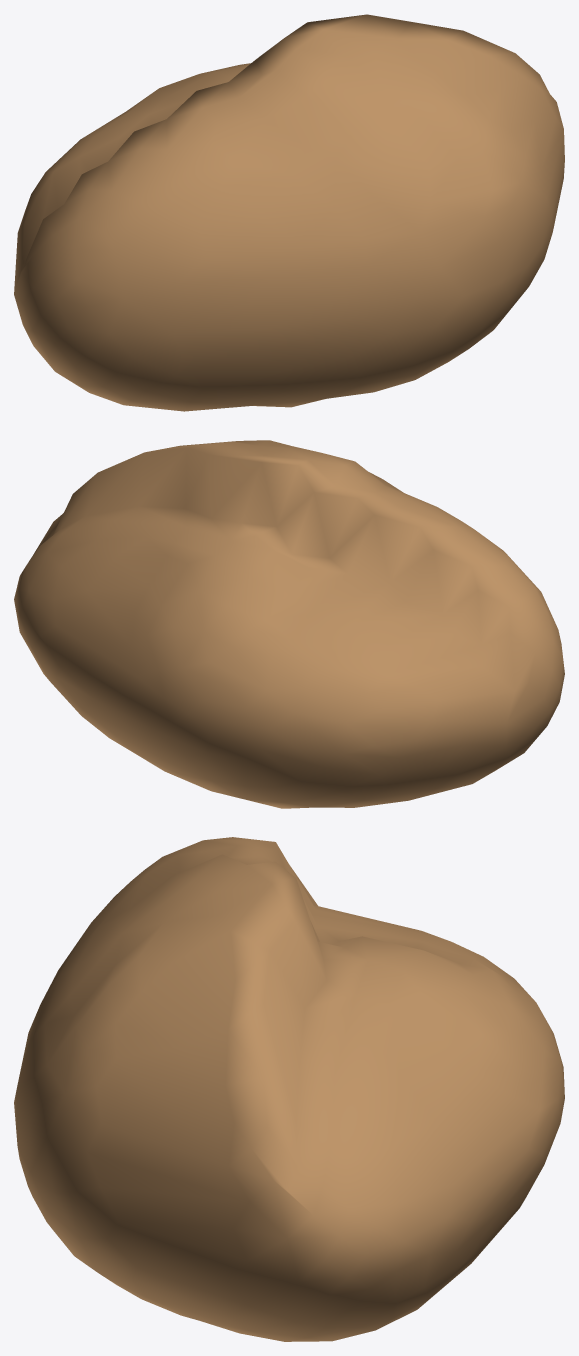
The model's file is E27_Sandstone_A.fbx.
3 views of the same model, one above another, from view 1: azimuth 30°, elevation 25°; view 2: azimuth 150°, elevation 25°; view 3: azimuth 270°, elevation 25° (orthographic). The views are drawn at different scales.
Parts seen in each view (by area): view 1: E27_Sandstone_A_Sandstone; view 2: E27_Sandstone_A_Sandstone; view 3: E27_Sandstone_A_Sandstone.
Boxes of the visible parts, x1,y1,x2,y2 form: E27_Sandstone_A_Sandstone: (14,14,564,411); E27_Sandstone_A_Sandstone: (14,440,564,808); E27_Sandstone_A_Sandstone: (14,837,564,1341).
Size of the model in its own units: 103 by 54.76 by 72.94.
